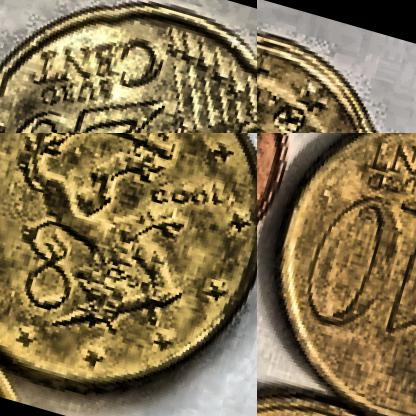coin: (0, 133, 256, 415), (257, 133, 415, 415), (0, 0, 256, 132), (257, 0, 415, 132)
